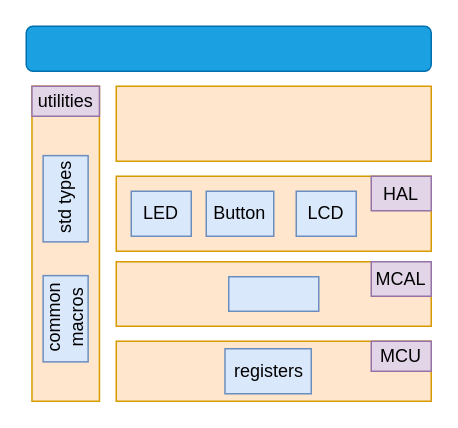
Some shapes in this 458 by 428 pixel diagram are drawn without their labels. Each missing label, with the centre of its shape:
Application: the point at 273,123
GPIO: the point at 273,293
Layer Architecture: the point at 228,48
